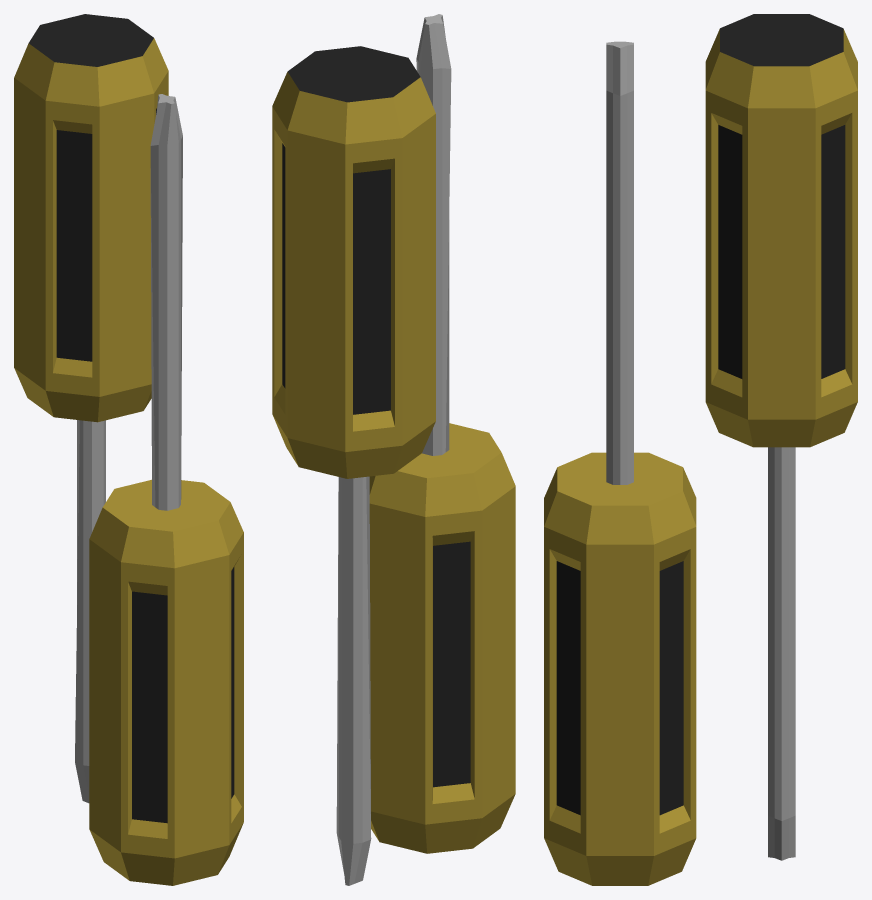
Rendered from otvertka.fbx.
The picture shows the model from 3 angles, left to right: view 1: azimuth 30°, elevation 25°; view 2: azimuth 150°, elevation 25°; view 3: azimuth 270°, elevation 25°; orthographic projection. The views are drawn at different scales.
Parts seen in each view (by area): view 1: Cube, Cube.001; view 2: Cube.001, Cube; view 3: Cube.001, Cube.
Part boxes in pixels (x1,y1,x2,y2): Cube: (89, 94, 243, 885); Cube.001: (14, 14, 168, 803); Cube.001: (272, 46, 435, 885); Cube: (369, 14, 515, 853); Cube.001: (705, 14, 857, 860); Cube: (544, 41, 696, 885).
Size of the model in its own units: 37.16 by 221 by 76.53.
